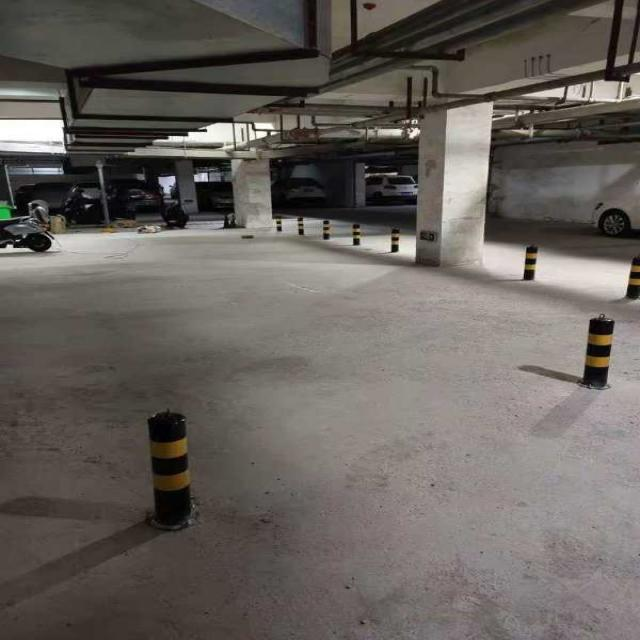car: (590, 198, 639, 236), (362, 174, 417, 202)
motorbike: (1, 206, 57, 251)
warning_column: (145, 408, 200, 530), (576, 312, 613, 390), (623, 252, 639, 298), (520, 242, 538, 281), (386, 224, 401, 252), (350, 222, 361, 246), (319, 218, 331, 240), (294, 215, 304, 234)
